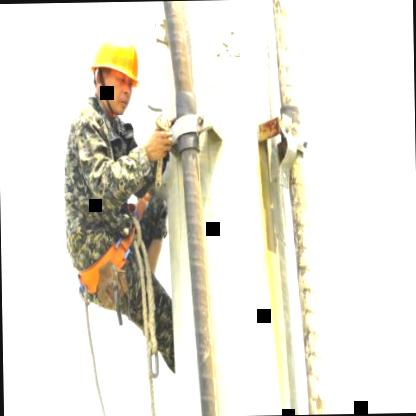helmet: (87, 30, 144, 120)
